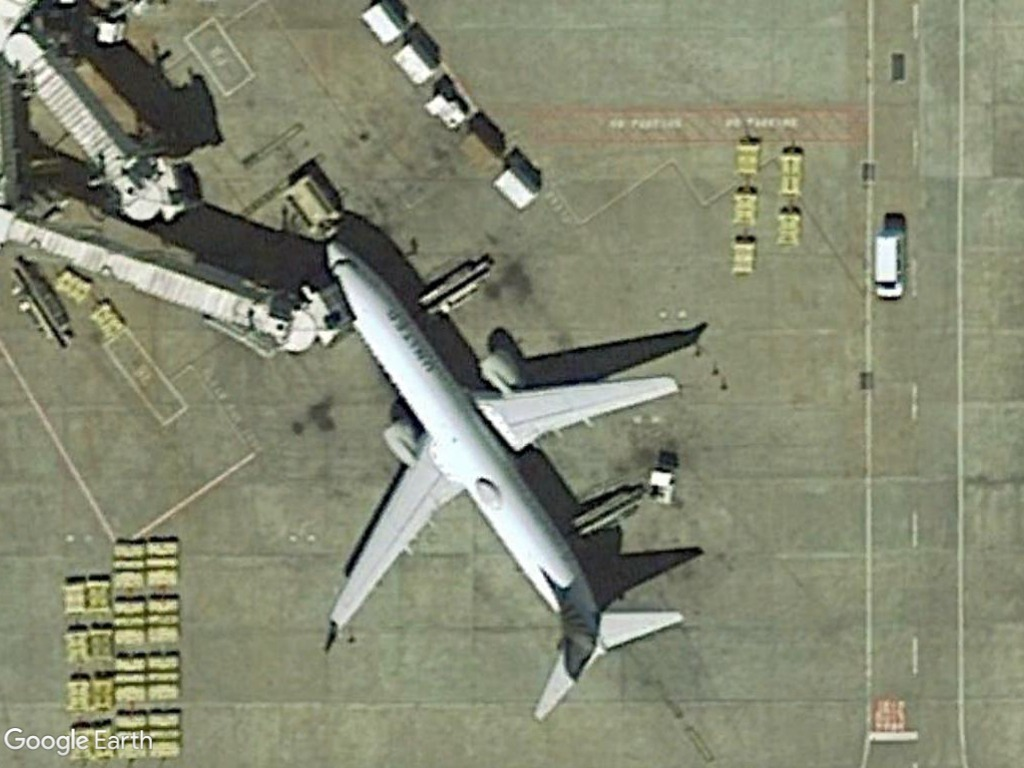airliner: (309, 235, 684, 726)
van: (869, 224, 912, 305)
